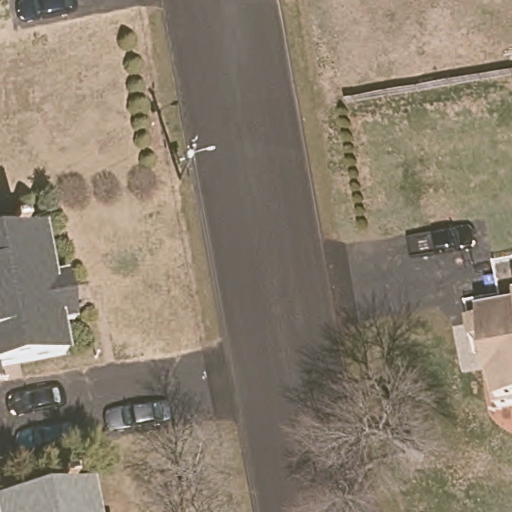DT: (178, 135, 217, 179)
